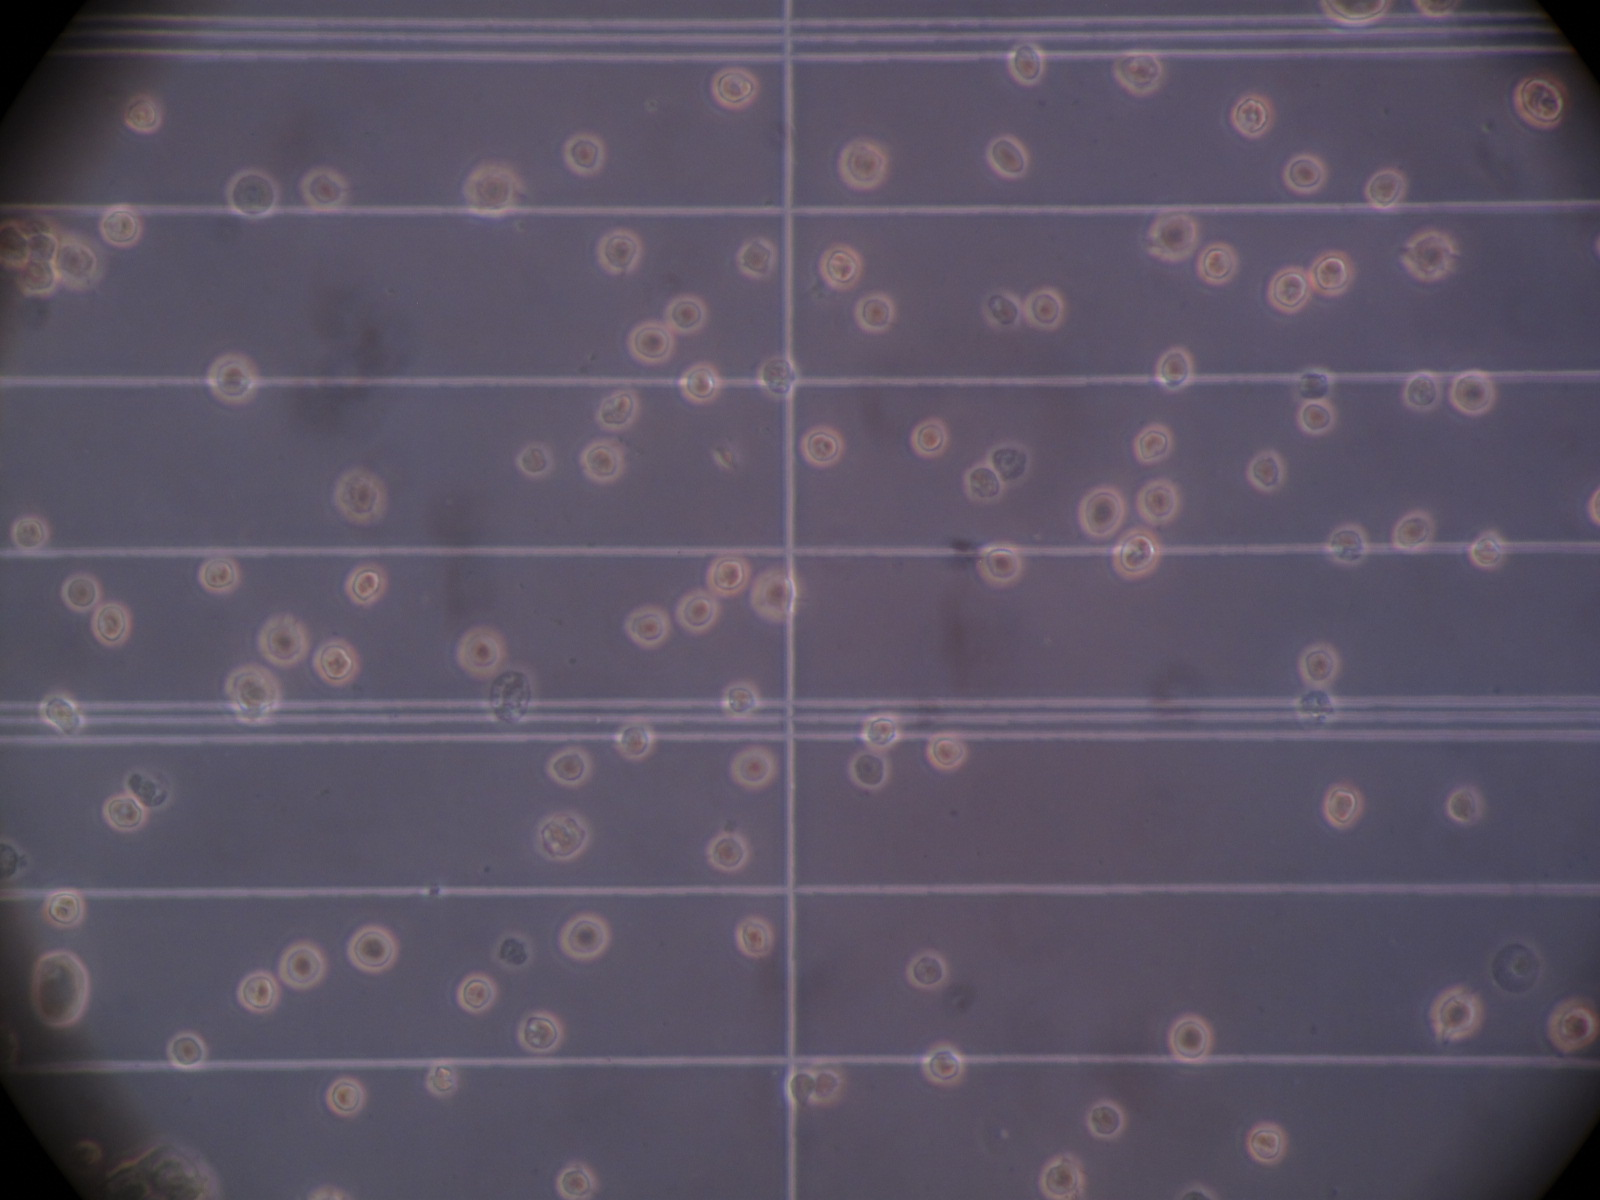hemo: (223, 666, 283, 727), (462, 159, 518, 221), (1398, 227, 1459, 282), (1429, 984, 1482, 1045), (1546, 998, 1599, 1056), (333, 466, 386, 524), (1514, 74, 1569, 130), (207, 352, 258, 410), (257, 614, 312, 667), (751, 562, 799, 621), (535, 809, 590, 861), (1111, 526, 1160, 582), (224, 169, 278, 219), (55, 234, 103, 291), (558, 913, 610, 963), (1145, 214, 1198, 263), (456, 626, 505, 678), (1078, 487, 1128, 537), (348, 924, 396, 976), (838, 137, 884, 190), (278, 940, 328, 989), (1111, 48, 1162, 96), (1167, 1013, 1213, 1065), (1266, 265, 1313, 315), (816, 239, 863, 290), (1135, 476, 1182, 527), (1310, 250, 1358, 297), (1449, 369, 1495, 418), (976, 541, 1024, 587), (626, 319, 674, 366), (98, 200, 144, 250), (312, 639, 359, 686), (1038, 1155, 1086, 1200), (299, 165, 346, 211), (38, 693, 87, 737), (986, 442, 1032, 489), (674, 587, 721, 633), (578, 436, 624, 483), (596, 229, 641, 276), (961, 459, 1005, 507), (1322, 782, 1364, 831), (922, 1039, 965, 1087), (847, 747, 889, 794), (677, 361, 719, 407), (712, 67, 758, 110), (517, 1010, 561, 1054), (236, 969, 280, 1013), (1196, 241, 1238, 286), (1245, 1121, 1288, 1166), (40, 885, 86, 928), (624, 605, 669, 648), (1298, 642, 1339, 688), (546, 746, 593, 787), (986, 134, 1029, 178), (1392, 511, 1435, 555), (706, 829, 748, 874), (344, 560, 386, 605), (1363, 168, 1406, 211), (801, 425, 844, 468), (926, 729, 969, 771), (1231, 93, 1272, 137), (736, 745, 776, 790), (101, 793, 146, 833), (563, 131, 603, 176), (1155, 345, 1194, 392), (734, 913, 774, 959), (1322, 1, 1393, 26), (1007, 39, 1044, 87), (756, 355, 799, 397), (1131, 424, 1174, 465), (707, 555, 748, 597), (1024, 286, 1063, 332), (664, 294, 706, 335), (1284, 153, 1324, 195), (456, 971, 496, 1013), (60, 571, 101, 614), (597, 388, 637, 431), (983, 287, 1022, 332), (906, 948, 946, 989), (614, 721, 654, 763), (1329, 522, 1368, 565), (324, 1076, 367, 1116), (198, 555, 241, 594), (1247, 447, 1284, 493), (859, 711, 901, 750), (734, 237, 774, 279), (123, 93, 163, 135), (93, 603, 130, 647), (854, 292, 894, 332), (166, 1031, 207, 1070), (910, 416, 947, 458), (1086, 1097, 1124, 1138), (1448, 782, 1483, 826), (1296, 400, 1337, 437), (1403, 369, 1440, 411), (514, 440, 553, 478), (15, 262, 58, 296), (1, 219, 29, 271), (1296, 366, 1334, 403), (1469, 529, 1506, 568), (556, 1165, 597, 1199), (721, 682, 758, 718), (425, 1060, 459, 1099), (13, 516, 48, 552), (814, 1061, 843, 1103), (21, 233, 58, 265), (787, 1069, 816, 1107), (1414, 1, 1461, 16)
